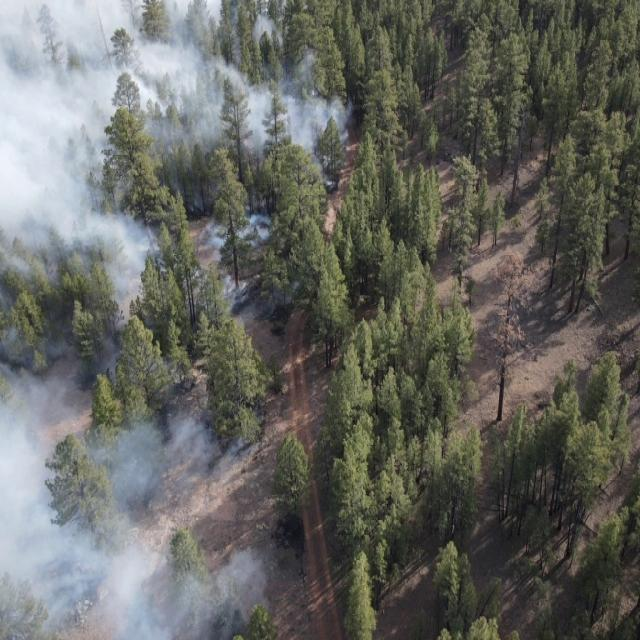smoke: (0, 400, 284, 640), (0, 0, 275, 144), (0, 310, 173, 402), (0, 144, 110, 285), (276, 25, 358, 189), (198, 216, 302, 313), (110, 210, 170, 310)
